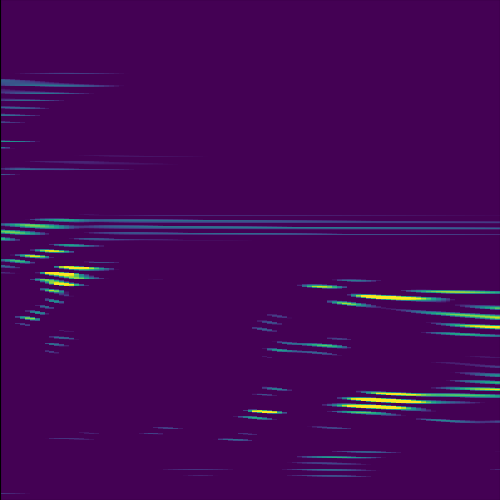semblance: (321, 387, 435, 419), (32, 262, 114, 295), (4, 241, 91, 263)
